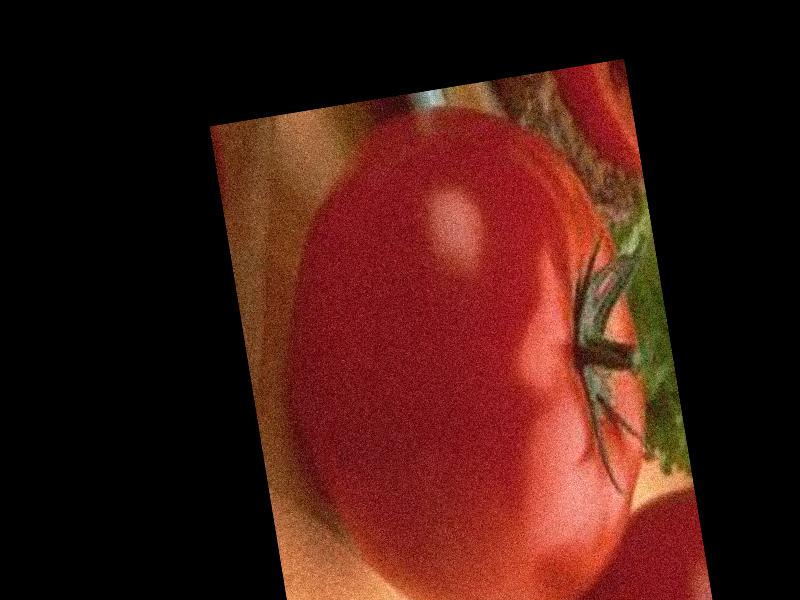Tomato: (258, 82, 679, 600)
